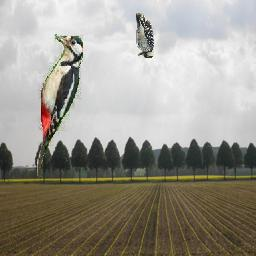Woodpecker: (37, 34, 83, 178), (136, 14, 154, 59)
